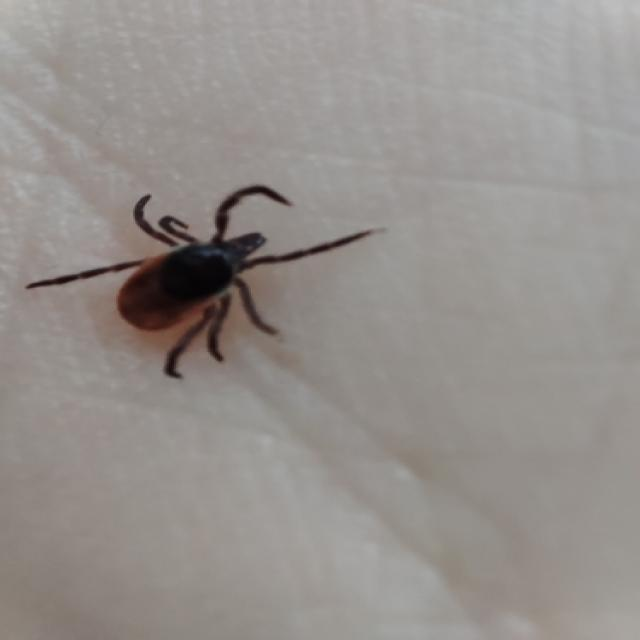Ixodes Ricinus-F: (26, 184, 372, 379)
